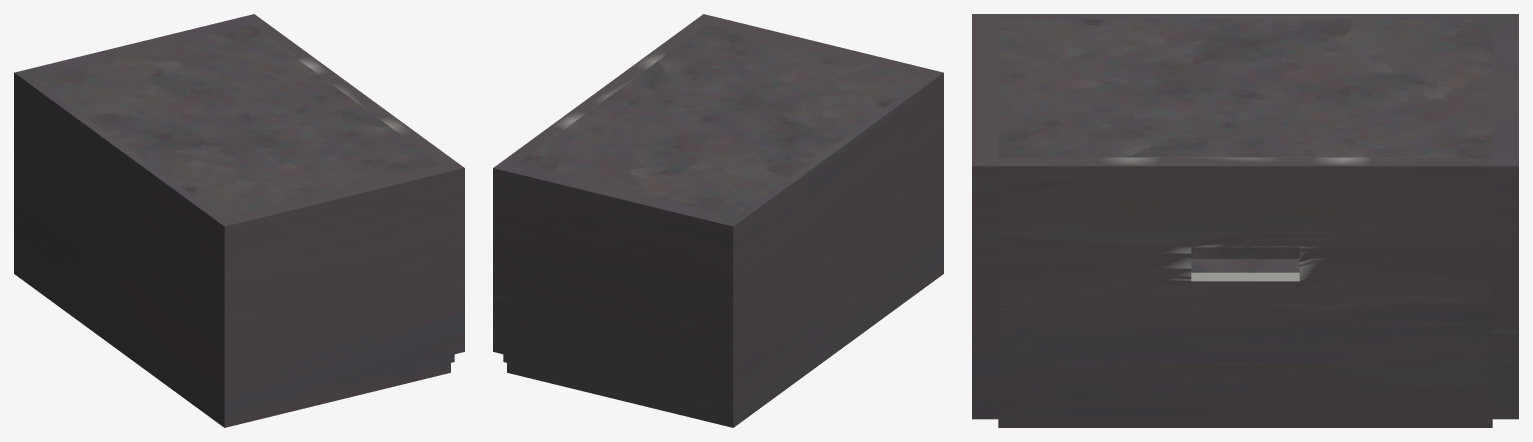
Rendered from InterviewRoom.fbx.
3 views of the same model, side by side, from view 1: azimuth 30°, elevation 25°; view 2: azimuth 150°, elevation 25°; view 3: azimuth 270°, elevation 25° (orthographic). The views are drawn at different scales.
Visible parts, largest first — view 1: Cube.001; view 2: Cube.001; view 3: Cube.001.
Boxes of the visible parts, x1,y1,x2,y2 form: Cube.001: (14, 14, 464, 427); Cube.001: (493, 14, 943, 427); Cube.001: (972, 14, 1518, 427).
Bounding box in the file's own units: 1184 × 948 × 1796.
